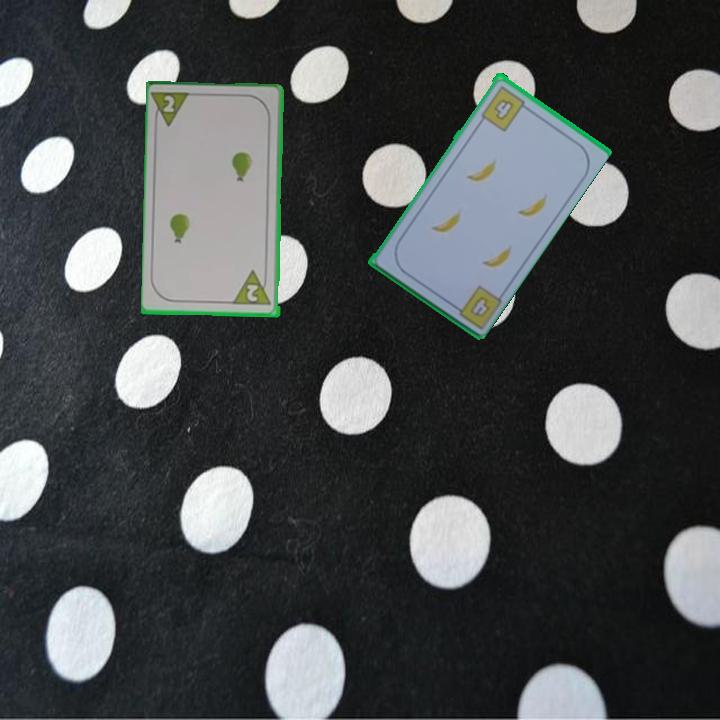2p: (150, 88, 195, 130), (231, 267, 274, 308)
4b: (477, 82, 532, 134), (447, 281, 504, 331)
